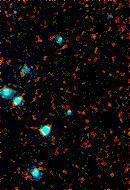star: (79, 25, 109, 55)
